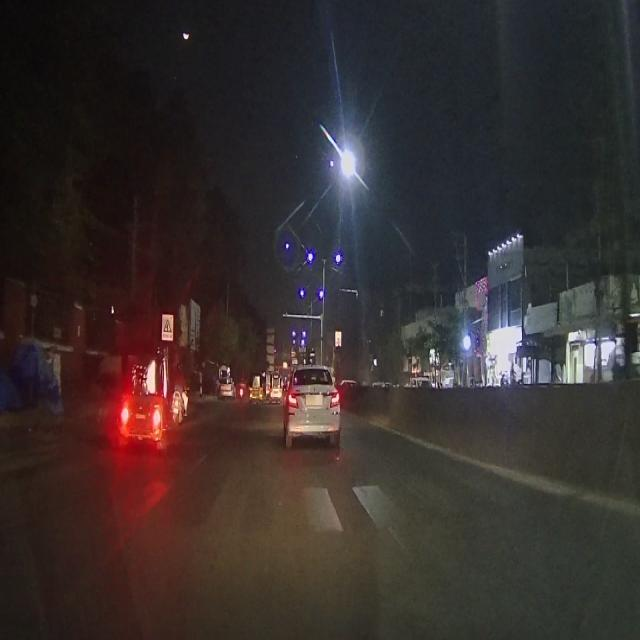car ahead at: (278, 361, 348, 450)
